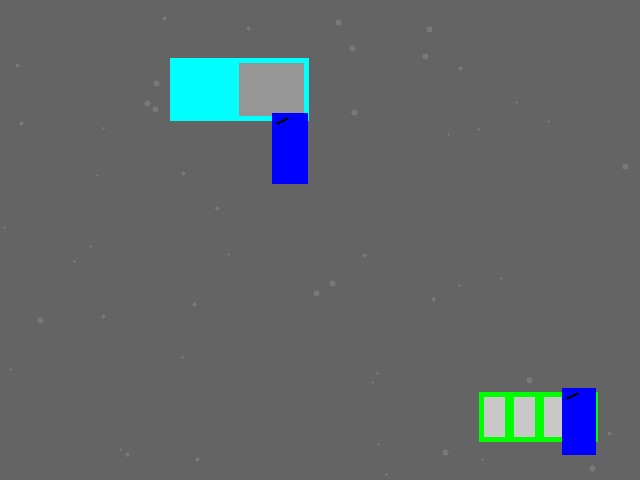bus: (479, 392, 597, 441)
motorcycle: (272, 113, 307, 183), (562, 388, 595, 454)
truck: (170, 58, 308, 120)
